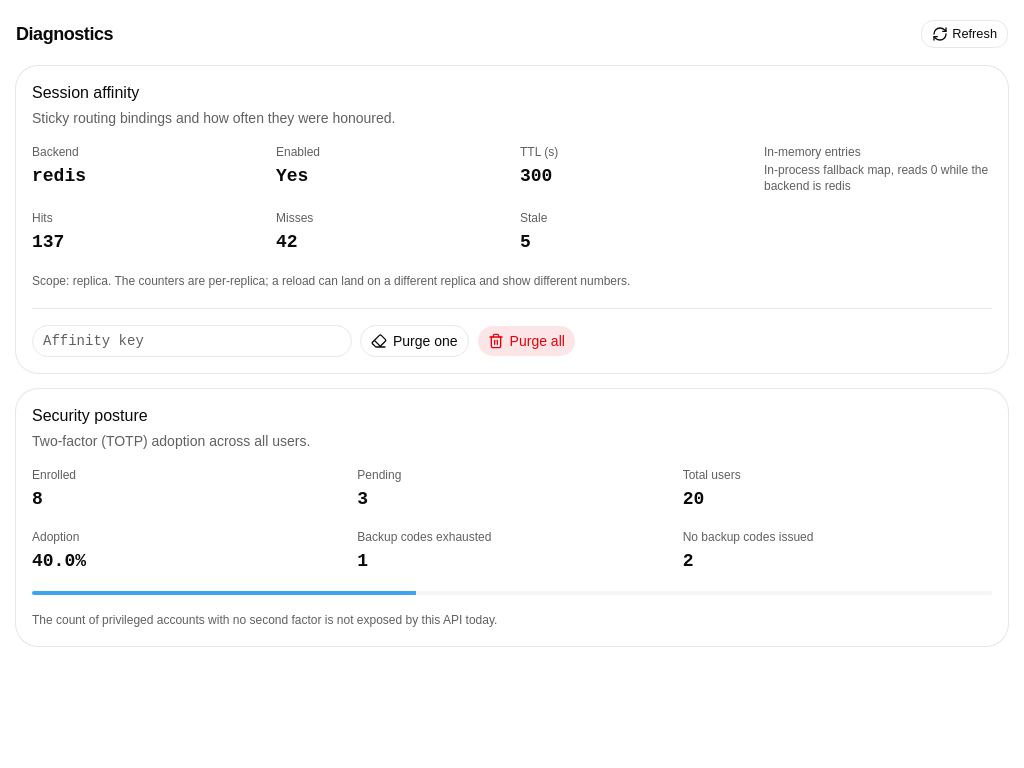
it: purge one binding › sends a DELETE with the typed key and refetches on success
This screenshot has width=1024, height=768.
Expected: the text "137" is shown, [32,232,64,252]
Type "abc123" into the field with test id "diag-affinity-purge-key-input" at (192, 340), box [32,324,352,356]
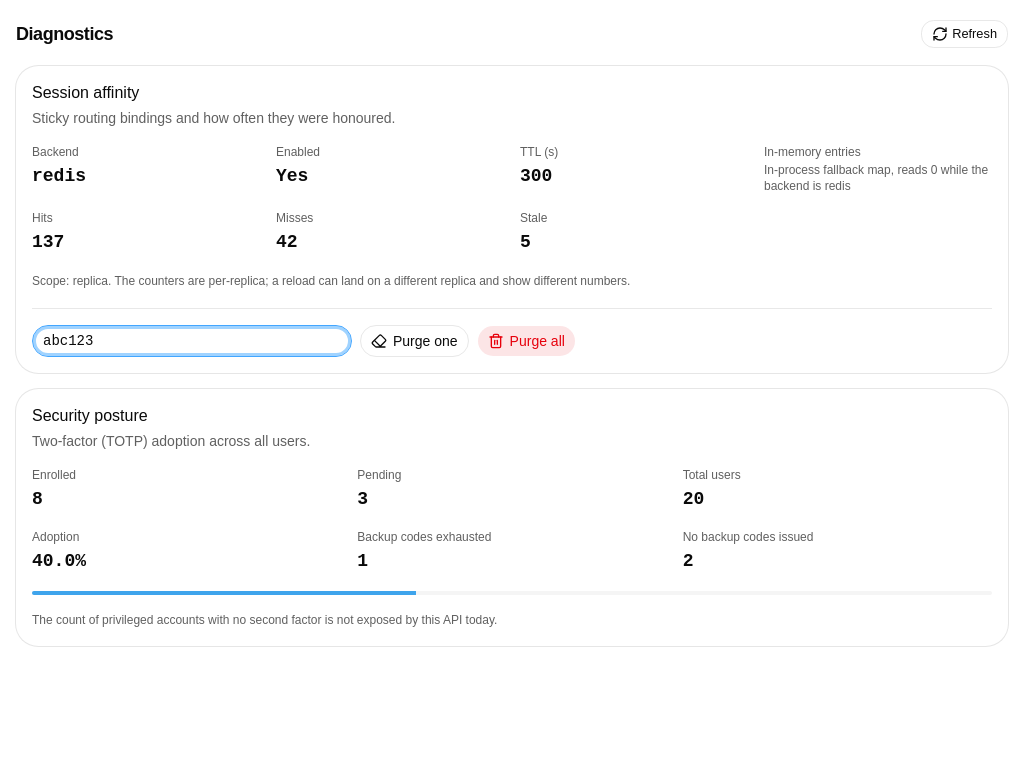
Click the button with test id "diag-affinity-purge-key-btn" at (414, 340), box [360,324,469,356]
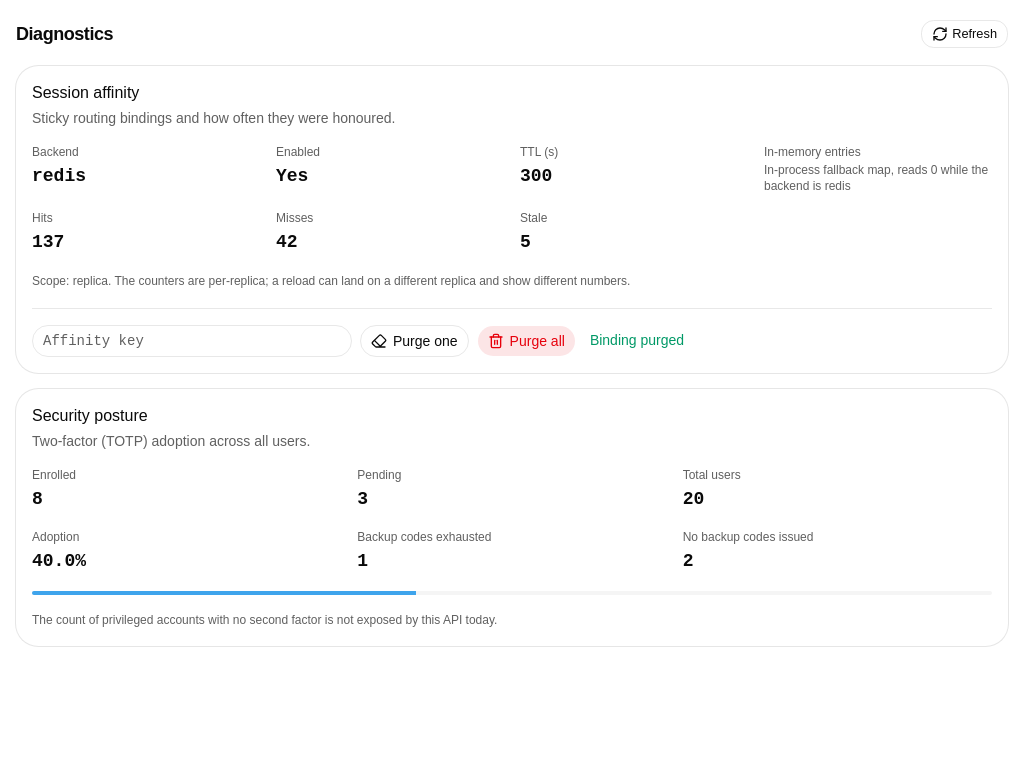
Result: the text "Binding purged" is shown at [590,330,684,351]
Result: the field with test id "diag-affinity-purge-key-input" is empty at [32,324,352,356]
